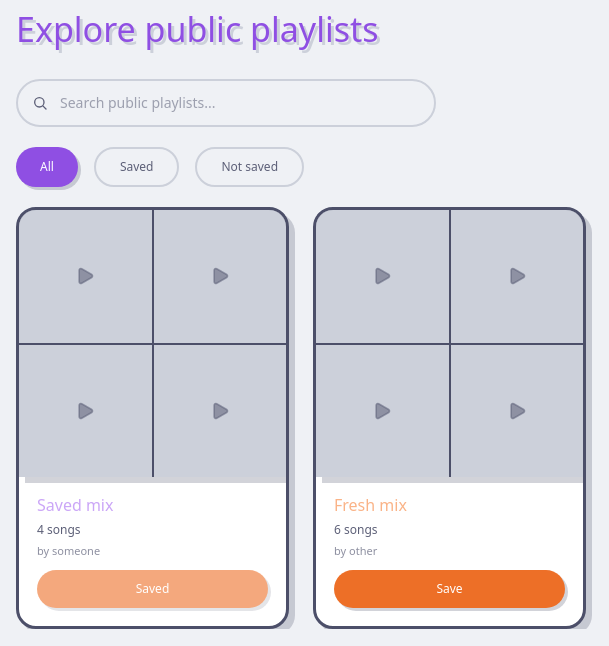
it: ExplorePlaylistsPage filters › partitions saved and unsaved playlists across tabs
Check: the text "Saved mix" is shown, box x1=37 y1=494 x2=114 y2=516
Check: the text "Fresh mix" is shown, box x1=334 y1=494 x2=407 y2=516
Click the 1st button "Saved": (137, 167) x1=94 y1=147 x2=180 y2=187
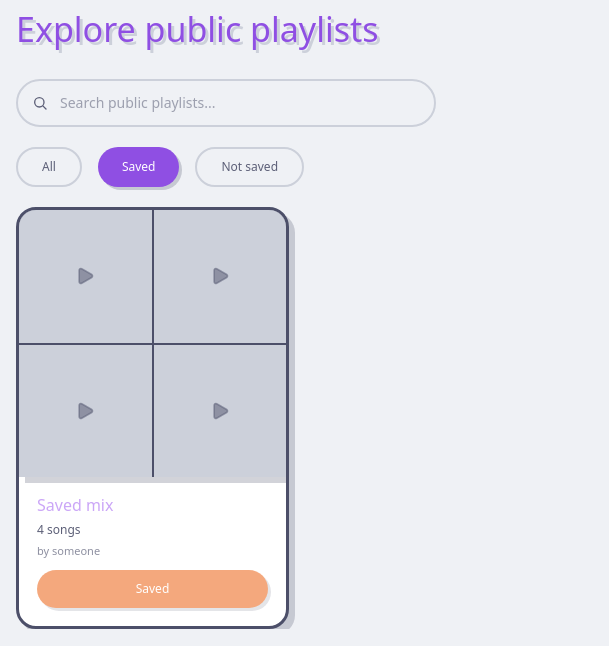
Check: the text "Saved mix" is shown, box x1=37 y1=494 x2=114 y2=516
Check: the link "Fresh mix" is gone
Click the button "Not saved": (250, 167) x1=196 y1=147 x2=304 y2=187
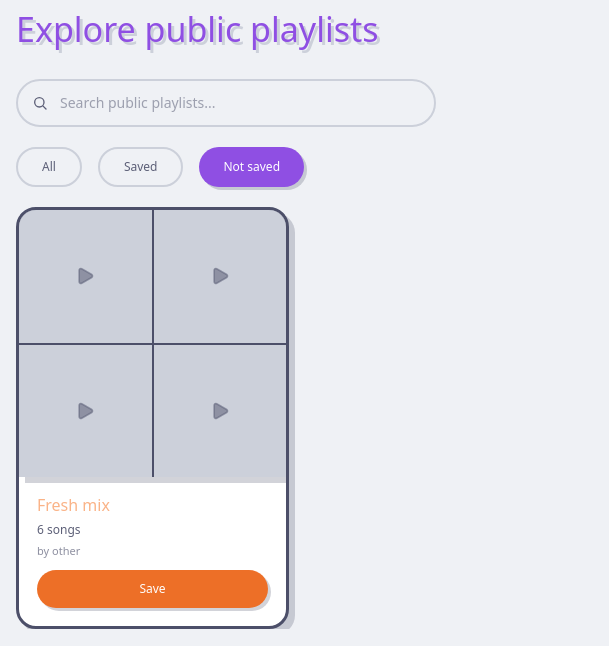
Check: the text "Fresh mix" is shown, box x1=37 y1=494 x2=110 y2=516
Check: the link "Saved mix" is gone
